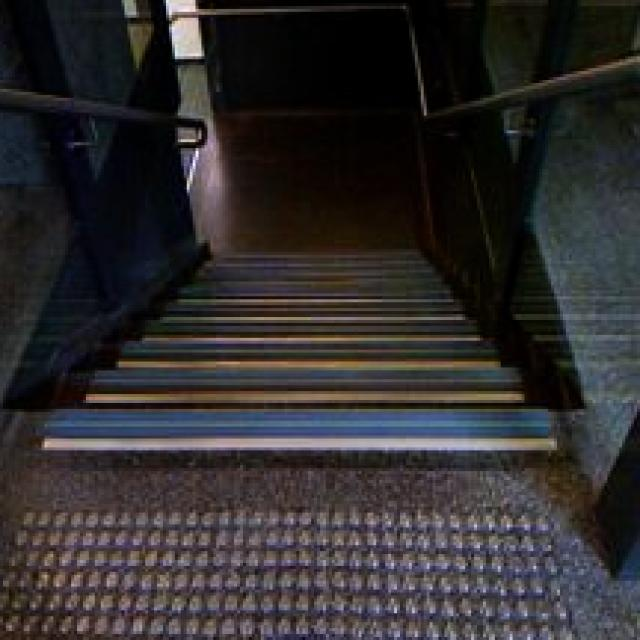downstair: (10, 327, 555, 537)
